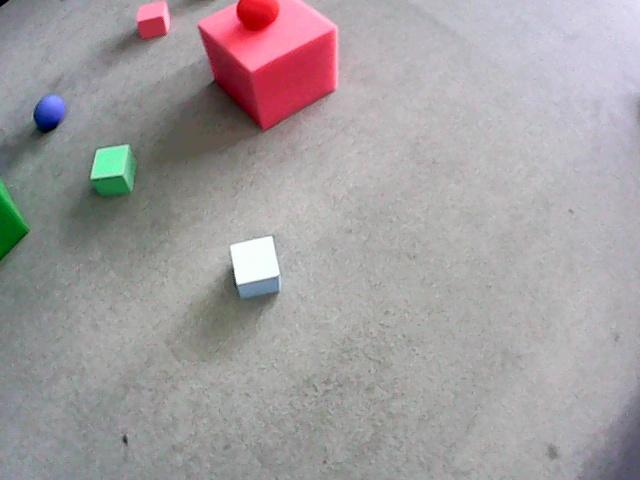blue_block: (230, 236, 280, 298), (237, 277, 280, 298)
red_block: (198, 0, 337, 129), (136, 1, 169, 38)
